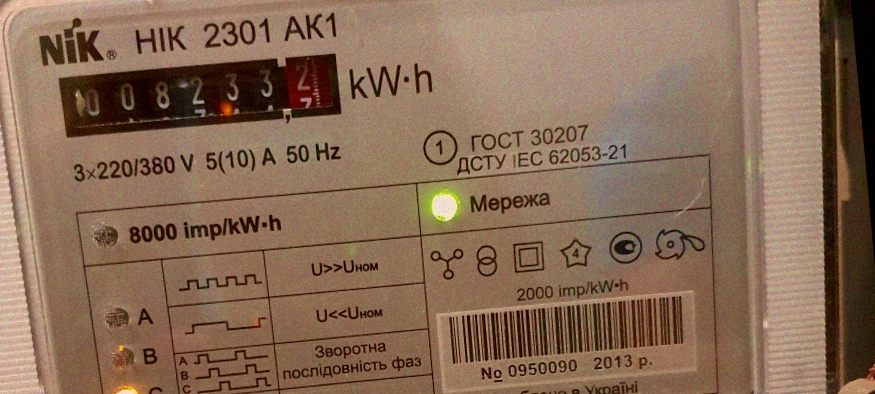0: (80, 85, 103, 118), (116, 80, 137, 113)
2: (185, 74, 208, 108), (293, 60, 313, 93)
3: (221, 70, 242, 103), (257, 66, 276, 99)
8: (152, 77, 172, 111)
screen: (47, 40, 354, 149)
